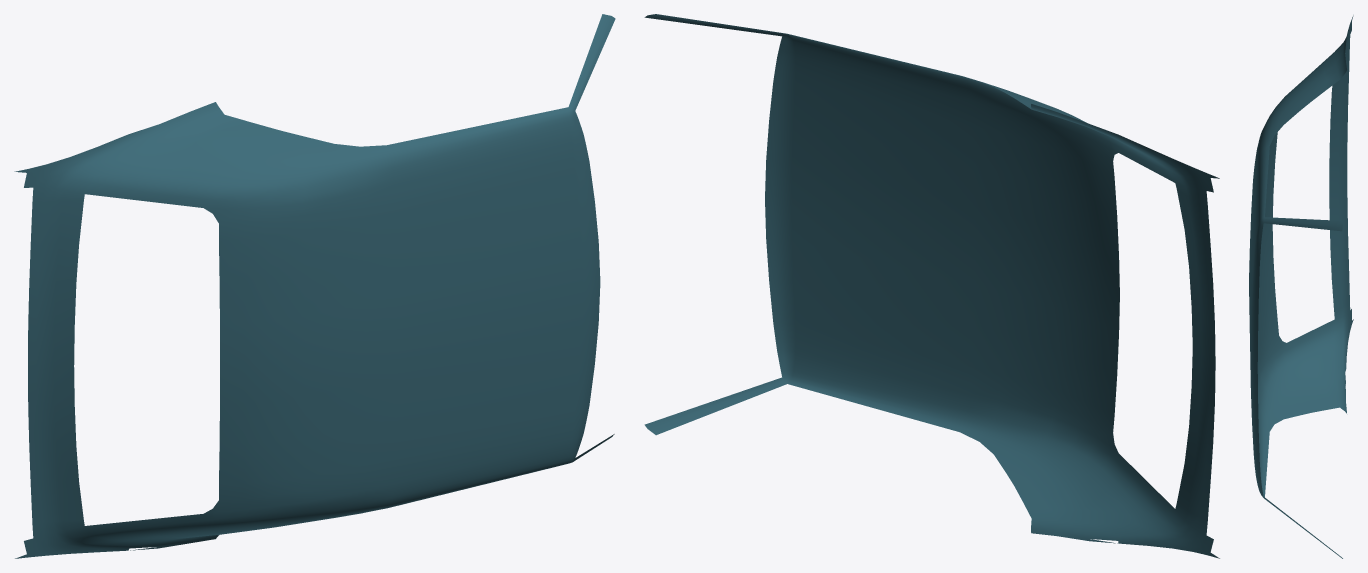
Rendered from CamaroTop.obj.
3 views of the same model, side by side, from view 1: azimuth 30°, elevation 25°; view 2: azimuth 150°, elevation 25°; view 3: azimuth 270°, elevation 25° (orthographic). The views are drawn at different scales.
Size of the model in its own units: 9.84 by 6.92 by 1.91.
